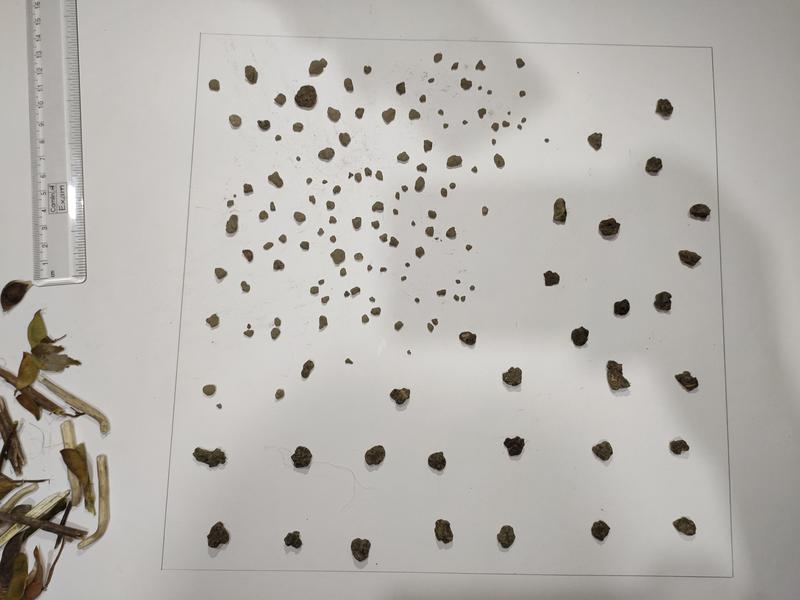Moti Mitti: (185, 443, 232, 471), (669, 513, 701, 541), (205, 520, 233, 549), (493, 522, 520, 551), (605, 360, 630, 391), (349, 535, 373, 566), (280, 528, 307, 555), (292, 84, 320, 110), (432, 517, 457, 545), (422, 449, 453, 471), (677, 248, 706, 271), (588, 439, 617, 462), (673, 369, 701, 392), (498, 366, 526, 388), (688, 202, 715, 224), (591, 520, 612, 547), (652, 96, 675, 120), (598, 216, 622, 239), (500, 434, 525, 456), (291, 446, 313, 471), (550, 197, 569, 224), (642, 155, 667, 175), (388, 385, 413, 405), (365, 445, 387, 467), (667, 438, 693, 456), (651, 292, 674, 312), (611, 298, 632, 318), (571, 325, 591, 346), (325, 103, 346, 123), (297, 359, 317, 380), (223, 213, 242, 235), (307, 58, 329, 76), (586, 130, 604, 150), (266, 171, 286, 189), (244, 65, 261, 86), (381, 107, 397, 129), (541, 270, 561, 287), (458, 330, 479, 346), (489, 152, 507, 170), (205, 313, 223, 331), (329, 247, 346, 265), (199, 382, 219, 397), (226, 112, 243, 129), (337, 132, 355, 148), (269, 389, 290, 402), (445, 156, 463, 171), (317, 146, 336, 160), (471, 60, 490, 74), (207, 78, 223, 92), (394, 79, 406, 97), (414, 175, 426, 193), (342, 78, 356, 93), (459, 78, 474, 92), (272, 93, 288, 106), (445, 226, 459, 240), (407, 108, 422, 121), (293, 210, 308, 223), (256, 119, 272, 131), (396, 151, 413, 162), (353, 106, 366, 120), (351, 216, 364, 230), (317, 315, 330, 329), (368, 201, 386, 211), (214, 267, 229, 279), (423, 138, 434, 154), (431, 52, 444, 65), (515, 58, 528, 71), (362, 64, 374, 78), (292, 121, 304, 135), (325, 199, 337, 213), (240, 280, 252, 294), (270, 328, 282, 342), (415, 245, 426, 260), (242, 182, 255, 194), (389, 236, 401, 249), (242, 249, 254, 262), (258, 209, 270, 222), (415, 163, 430, 173), (352, 252, 364, 264), (449, 60, 461, 72), (306, 193, 318, 205), (430, 315, 442, 327), (273, 259, 285, 271), (435, 287, 448, 298), (426, 209, 439, 220), (299, 241, 313, 251), (480, 206, 491, 218), (424, 225, 435, 237), (278, 234, 290, 245), (439, 186, 448, 200), (436, 110, 450, 119), (393, 320, 404, 331), (328, 215, 340, 225), (477, 108, 487, 120), (369, 220, 382, 229), (241, 330, 255, 338), (378, 232, 389, 242), (263, 241, 274, 251), (273, 316, 283, 327), (360, 315, 372, 324), (376, 168, 383, 183), (332, 185, 343, 194), (309, 286, 320, 295), (269, 201, 278, 212), (328, 234, 339, 243), (491, 121, 500, 132), (364, 166, 372, 178), (370, 307, 382, 315), (449, 180, 458, 190), (317, 227, 326, 237), (366, 263, 374, 274), (404, 262, 415, 270), (355, 172, 363, 183), (517, 90, 528, 98), (502, 120, 510, 131), (427, 322, 434, 334), (226, 199, 236, 207), (305, 177, 314, 185), (321, 296, 331, 303), (419, 94, 426, 104), (401, 275, 408, 284), (380, 266, 387, 274), (275, 134, 282, 142), (414, 297, 421, 305), (517, 123, 524, 131), (461, 120, 470, 126), (519, 117, 528, 123), (347, 172, 354, 179), (410, 220, 417, 227), (453, 295, 460, 302), (461, 296, 468, 303), (369, 297, 378, 302), (317, 280, 326, 285), (295, 155, 301, 162), (443, 122, 449, 128), (428, 78, 435, 83), (321, 180, 327, 185), (455, 279, 461, 284), (470, 285, 475, 291), (246, 323, 251, 329), (507, 110, 512, 116), (233, 193, 237, 197)
